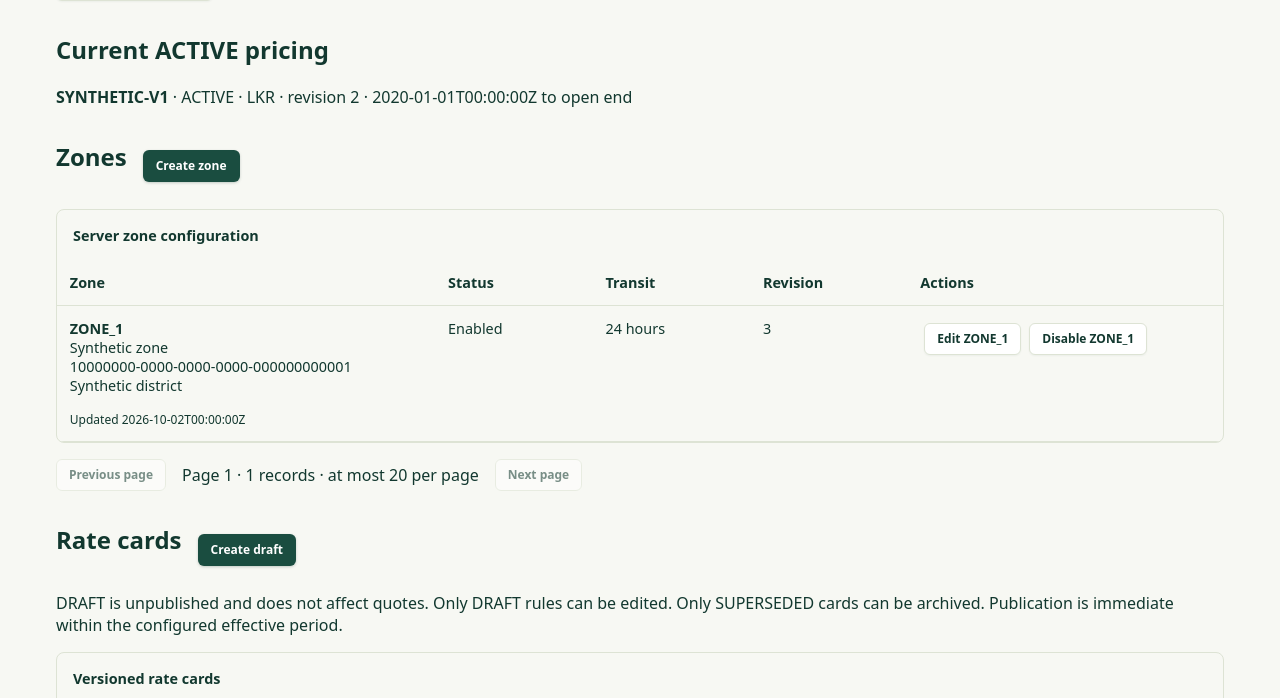
Test case: Pricing access and session isolation › resets selection, forms and confirmation on account change
(page scrolled)
Expected: the button "Edit ZONE_1" is shown, top-left (924, 323), bottom-right (1021, 355)
Click the button "Disable ZONE_1": (1088, 339) top-left (1029, 323), bottom-right (1147, 355)
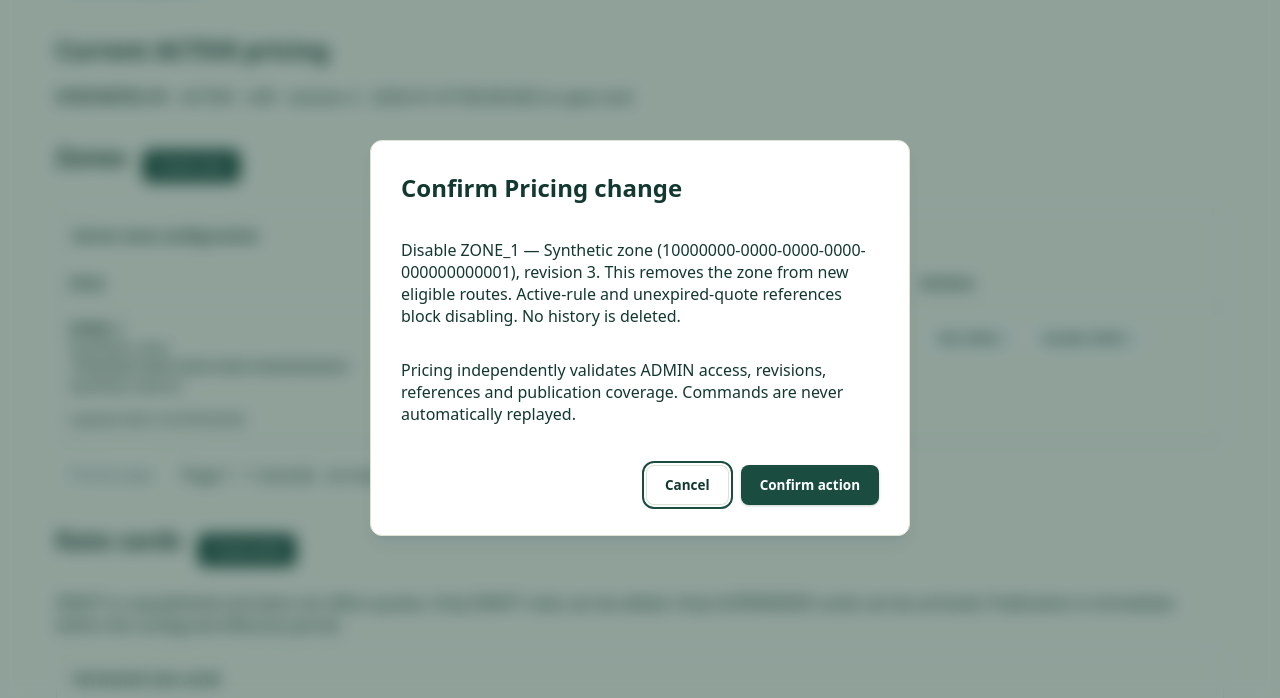
Now the dialog is shown, box top-left (370, 140), bottom-right (910, 536)
